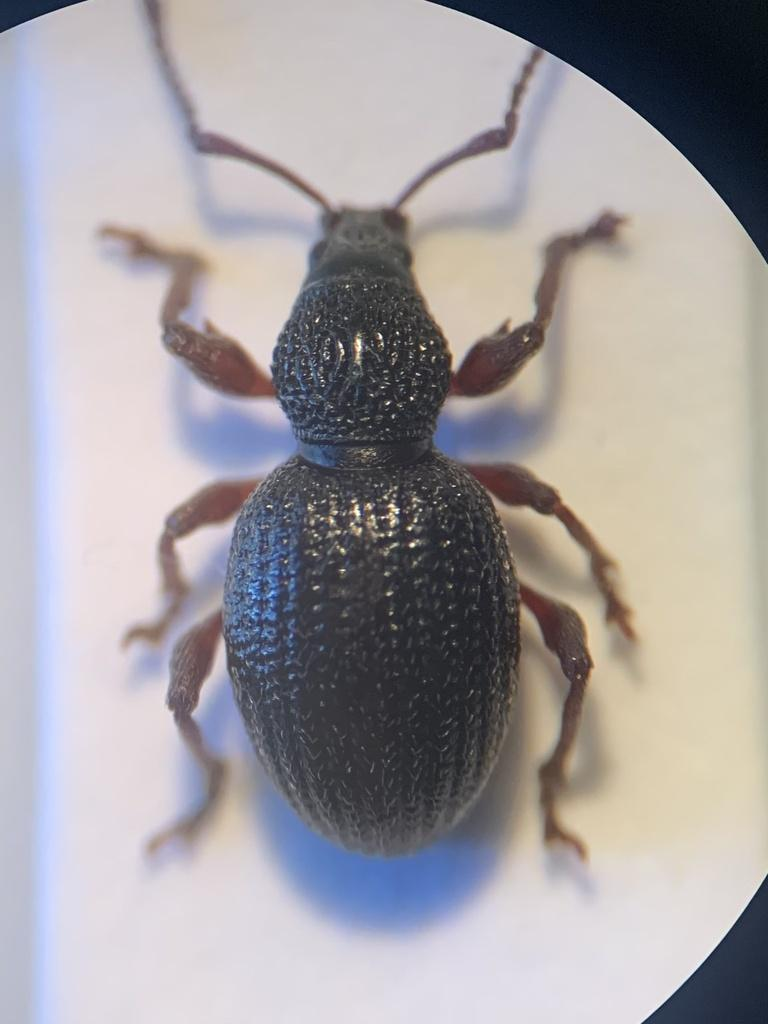weevils: (9, 0, 724, 963)
